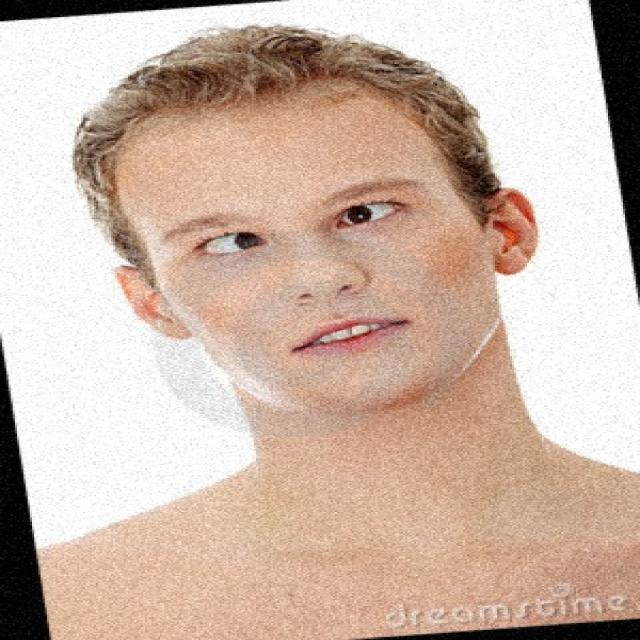Squint: (173, 210, 280, 272), (322, 182, 415, 235)
